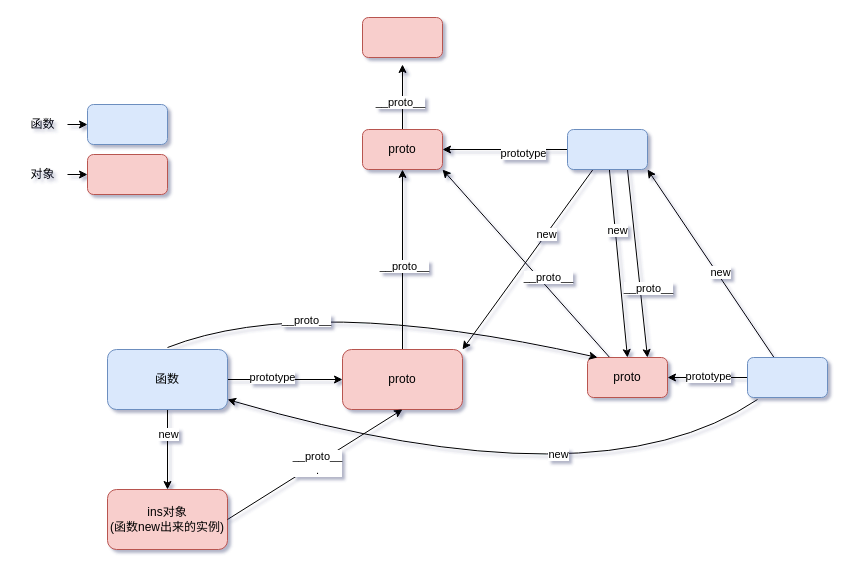
This 851x573 diagram has some shape labels left out. The shapes that lost their labels are listed below. From the top down, each one's centre as x and y in pixels, then its label:
At point (402, 37): "null".
At point (607, 149): "Object".
At point (787, 377): "Function".
